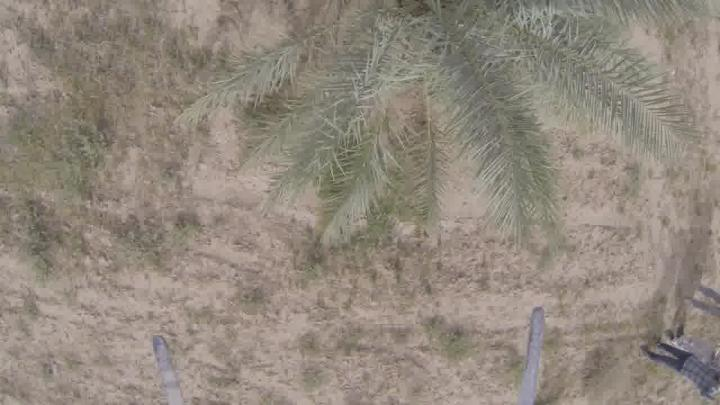Date-Palm-Crown: (286, 0, 578, 194)
